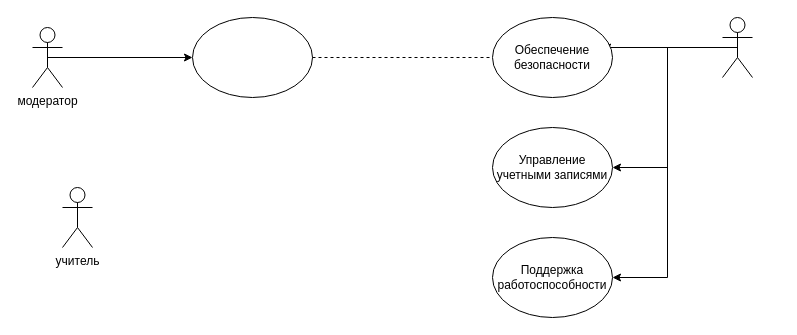
This 797x335 diagram has some shape labels left out. Here are the shapes that lost their labels. From the top down, the centre of each, then its label:
At point 252,57: "Мониторинг действий пользователя".
At point 737,47: "администратор".
